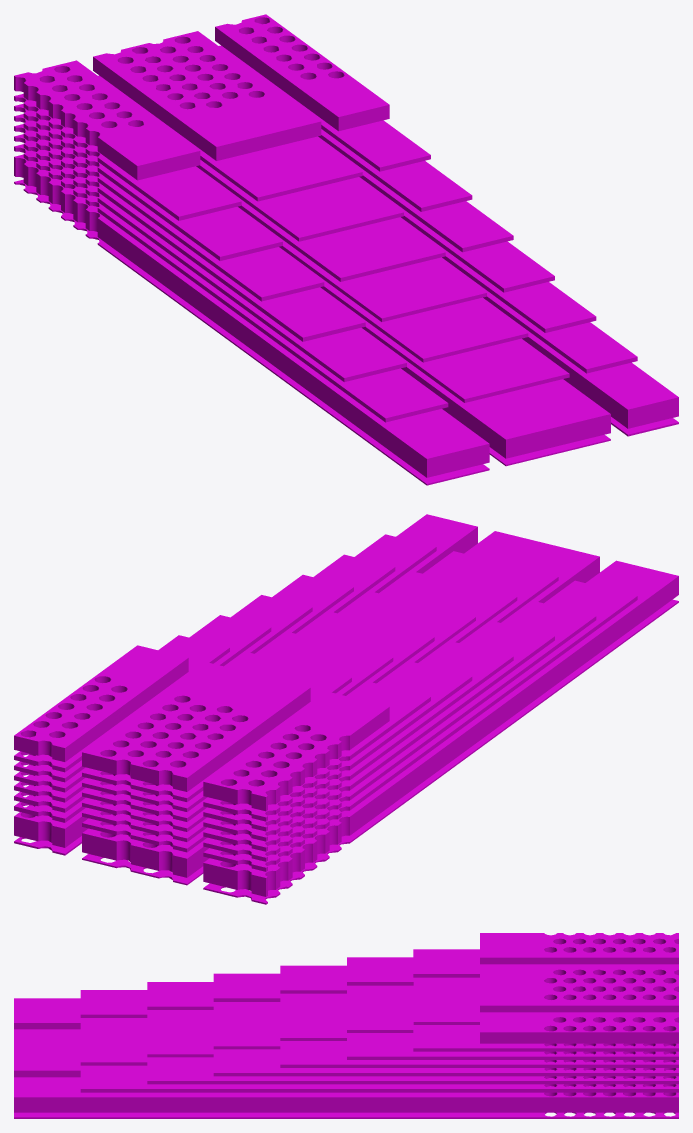
File: OxideSteps.fbx
3 views of the same model, one above another, from view 1: azimuth 30°, elevation 25°; view 2: azimuth 150°, elevation 25°; view 3: azimuth 270°, elevation 25° (orthographic). The views are drawn at different scales.
Visible parts, largest first — view 1: OxideSteps; view 2: OxideSteps; view 3: OxideSteps.
Part boxes in pixels (x1=…): OxideSteps: x1=14, y1=14, x2=678, y2=485; OxideSteps: x1=14, y1=514, x2=678, y2=904; OxideSteps: x1=14, y1=933, x2=678, y2=1118.
Bounding box in the file's own units: 2258 × 922 × 6404.
